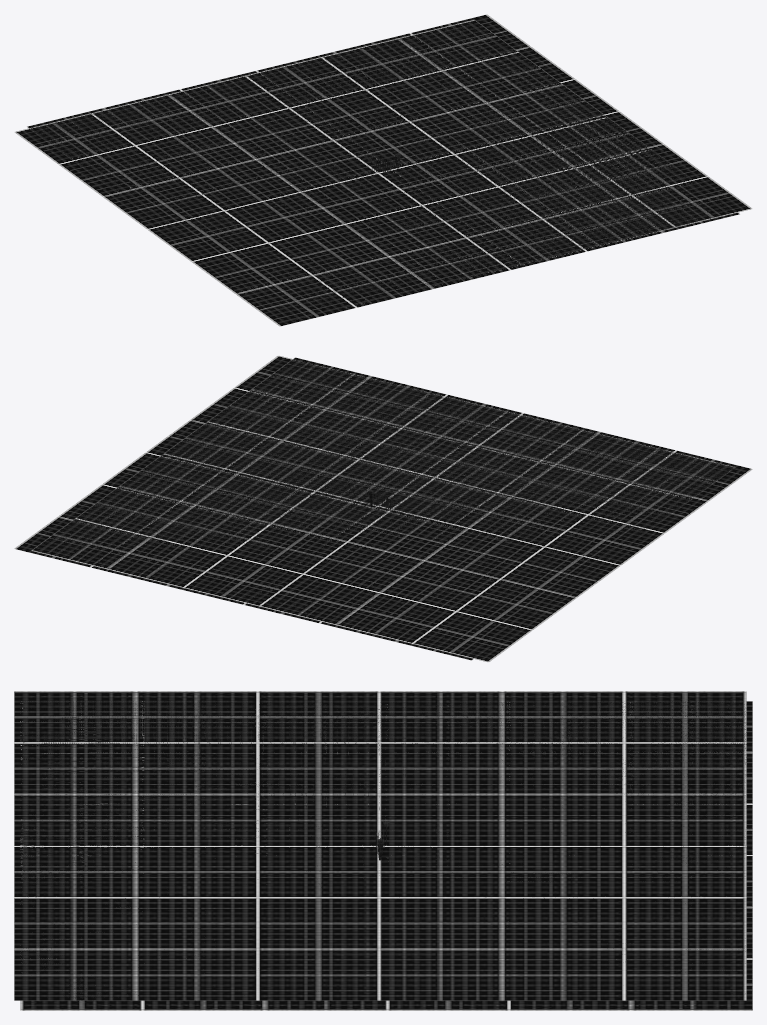
The model's file is level1.glb.
3 views of the same model, one above another, from view 1: azimuth 30°, elevation 25°; view 2: azimuth 150°, elevation 25°; view 3: azimuth 270°, elevation 25° (orthographic). The views are drawn at different scales.
Visible parts, largest first — view 1: Plane, Plane.001; view 2: Plane, Plane.001; view 3: Plane, Plane.001.
Part boxes in pixels (box(x1,y1,x2,y2)): Plane: box(14, 20, 739, 326); Plane.001: box(27, 14, 752, 319); Plane: box(31, 357, 752, 662); Plane.001: box(14, 355, 735, 660); Plane: box(14, 691, 746, 1000); Plane.001: box(20, 701, 752, 1010).
Bounding box in the file's own units: 2065 × 58.12 × 2017.
Materials: 1 (1 with a texture image).
